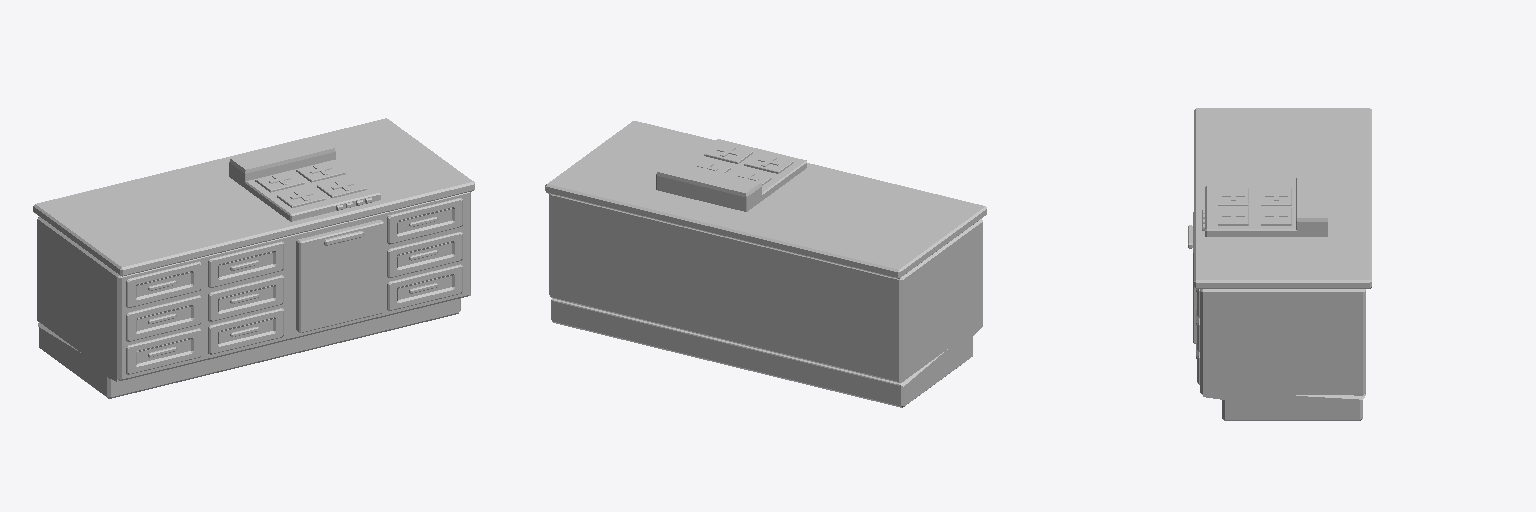
File: Counter_C.obj
3 renders of one model, left to right at view 1: azimuth 30°, elevation 25°; view 2: azimuth 150°, elevation 25°; view 3: azimuth 270°, elevation 25°, orthographic.
Visible parts, largest first — view 1: Counter_C; view 2: Counter_C; view 3: Counter_C.
Boxes of the visible parts, box(x1,y1,x2,y2) form: Counter_C: box(33, 118, 474, 398); Counter_C: box(545, 121, 986, 407); Counter_C: box(1188, 108, 1371, 420).
Size of the model in its own units: 14.42 by 6.23 by 6.48.